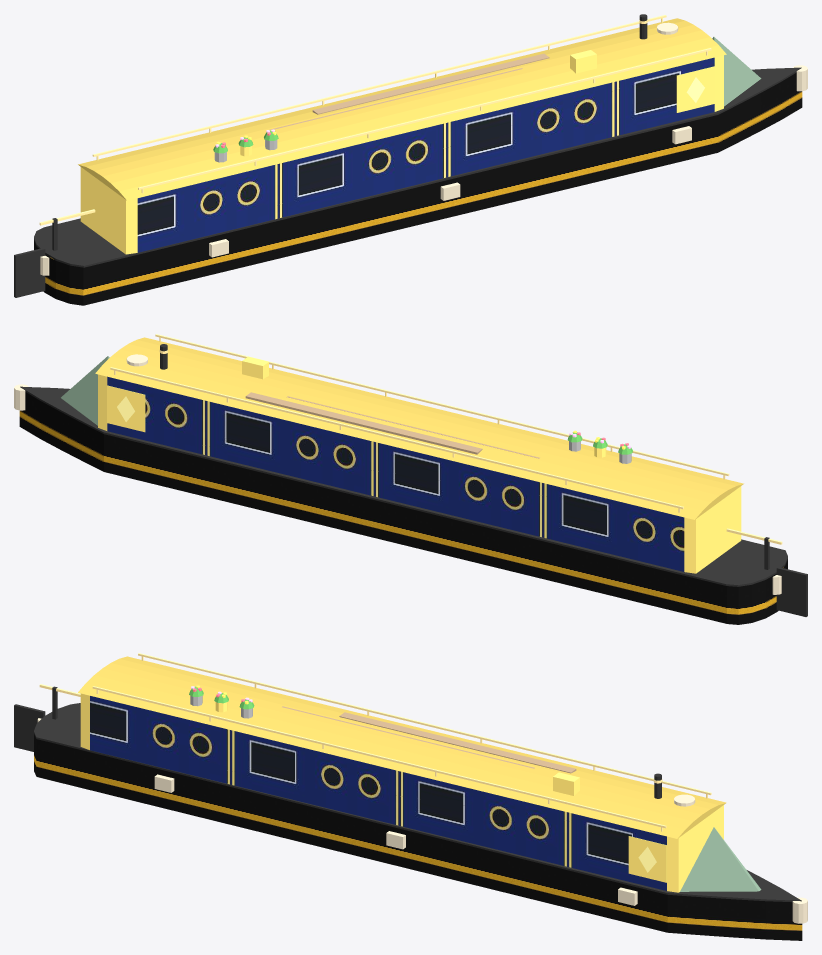
The model's file is boat-2.glb.
3 views of the same model, one above another, from view 1: azimuth 30°, elevation 25°; view 2: azimuth 150°, elevation 25°; view 3: azimuth 330°, elevation 25° (orthographic).
Visible parts, largest first — view 1: Cabin, Hull, Roof, Gunwale, CabinEndF, Handrail, Plank, RopeCoil, Cratch; view 2: Cabin, Hull, Roof, Gunwale, CabinEndF, Handrail, Plank, Cratch, RopeCoil; view 3: Cabin, Hull, Roof, Gunwale, CabinEndF, Handrail, Cratch, Plank, RopeCoil.
Part boxes in pixels (bbox=[...]): Cabin: bbox=[137, 57, 714, 252]; Hull: bbox=[34, 72, 802, 305]; Roof: bbox=[78, 18, 726, 200]; Gunwale: bbox=[14, 14, 801, 297]; CabinEndF: bbox=[80, 50, 723, 254]; Handrail: bbox=[39, 15, 711, 225]; Plank: bbox=[269, 53, 549, 130]; RopeCoil: bbox=[40, 22, 807, 275]; Cratch: bbox=[712, 37, 761, 106]; Cabin: bbox=[107, 376, 684, 571]; Hull: bbox=[19, 392, 787, 624]; Roof: bbox=[95, 337, 743, 519]; Gunwale: bbox=[20, 344, 807, 616]; CabinEndF: bbox=[98, 356, 741, 573]; Handrail: bbox=[110, 334, 782, 544]; Plank: bbox=[245, 392, 539, 458]; Cratch: bbox=[61, 356, 109, 425]; RopeCoil: bbox=[14, 354, 781, 594]; Cabin: bbox=[90, 696, 666, 890]; Hull: bbox=[34, 734, 802, 940]; Roof: bbox=[78, 656, 726, 838]; Gunwale: bbox=[14, 686, 801, 902]; CabinEndF: bbox=[80, 693, 723, 892]; Handrail: bbox=[39, 653, 711, 831]; Cratch: bbox=[680, 827, 761, 891]; Plank: bbox=[282, 706, 576, 773]; RopeCoil: bbox=[37, 718, 807, 923].
Bounding box in the file's own units: 18.81 × 2.8 × 2.24.
15 materials, 2 textured.
